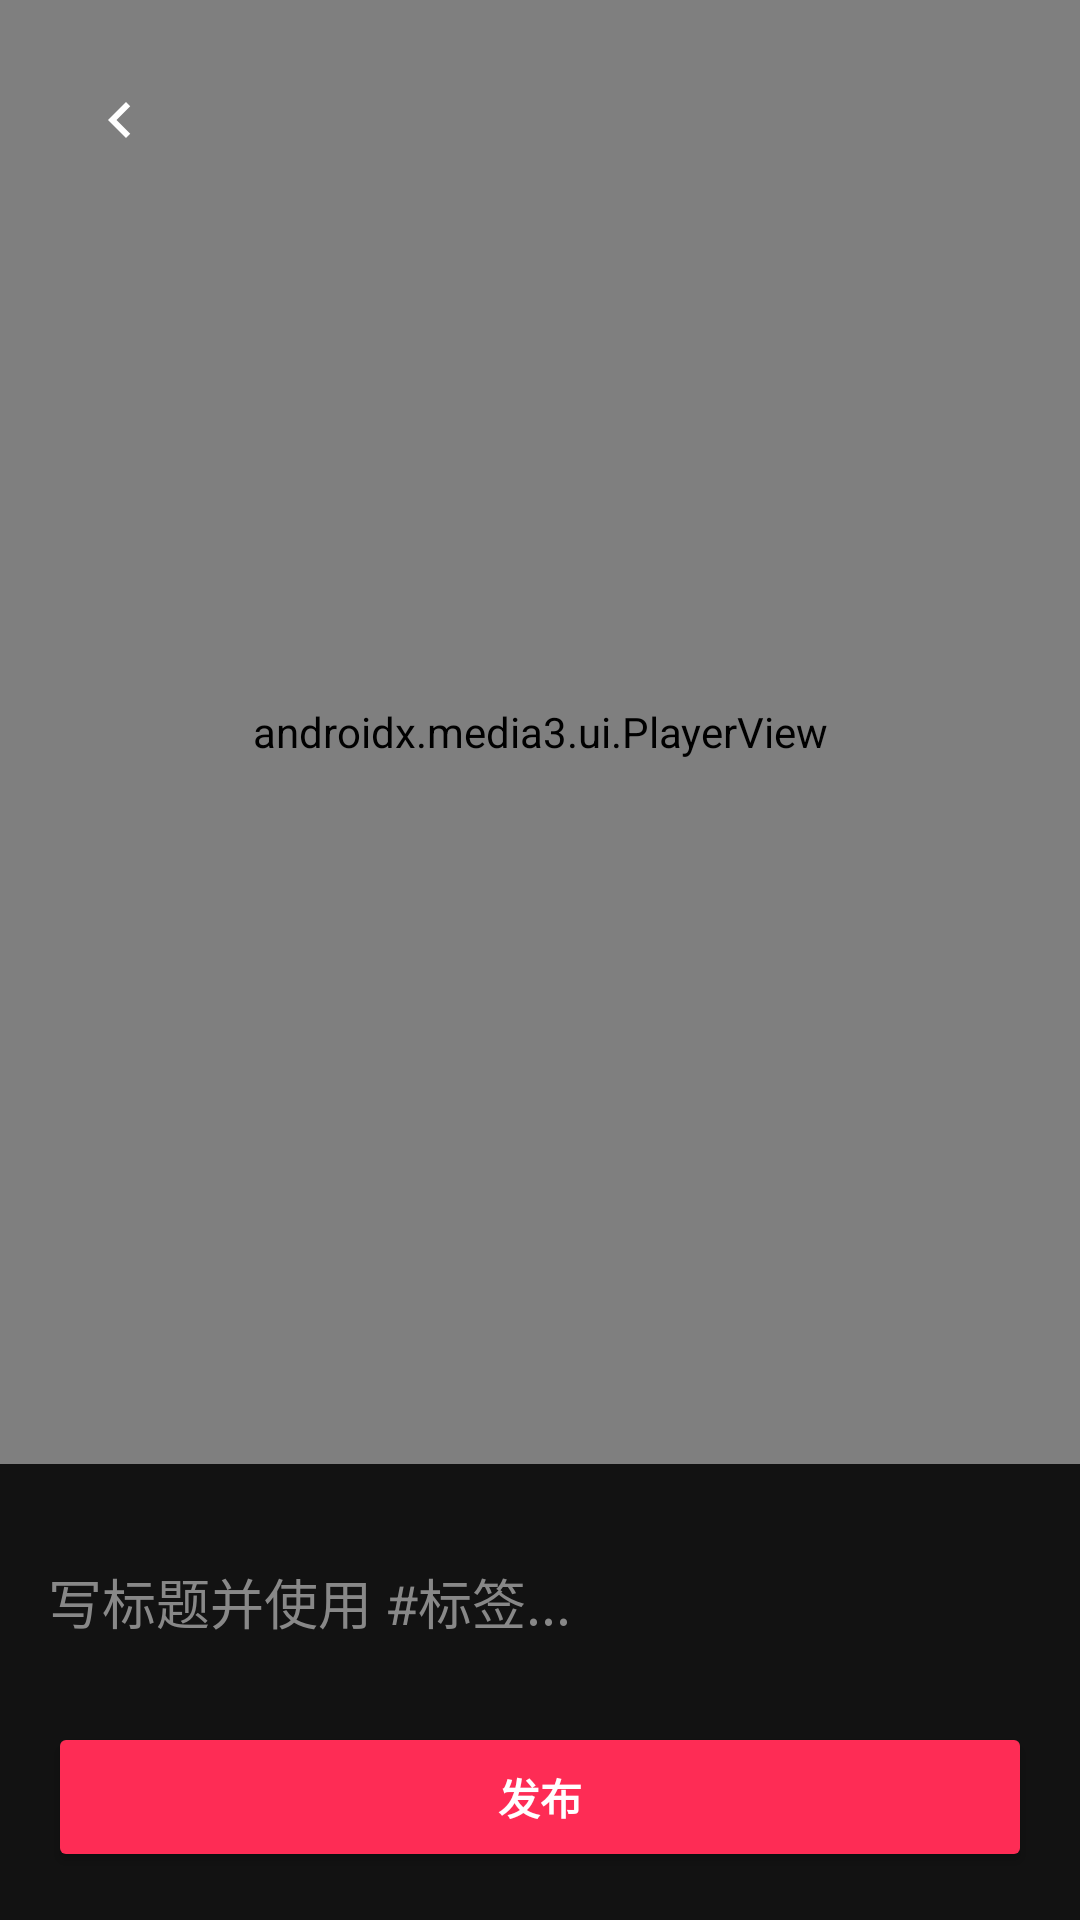

Icons on this 1080 × 1920 Android screen, each with the point to tap as [x,y]:
back arrow: [119,120]
